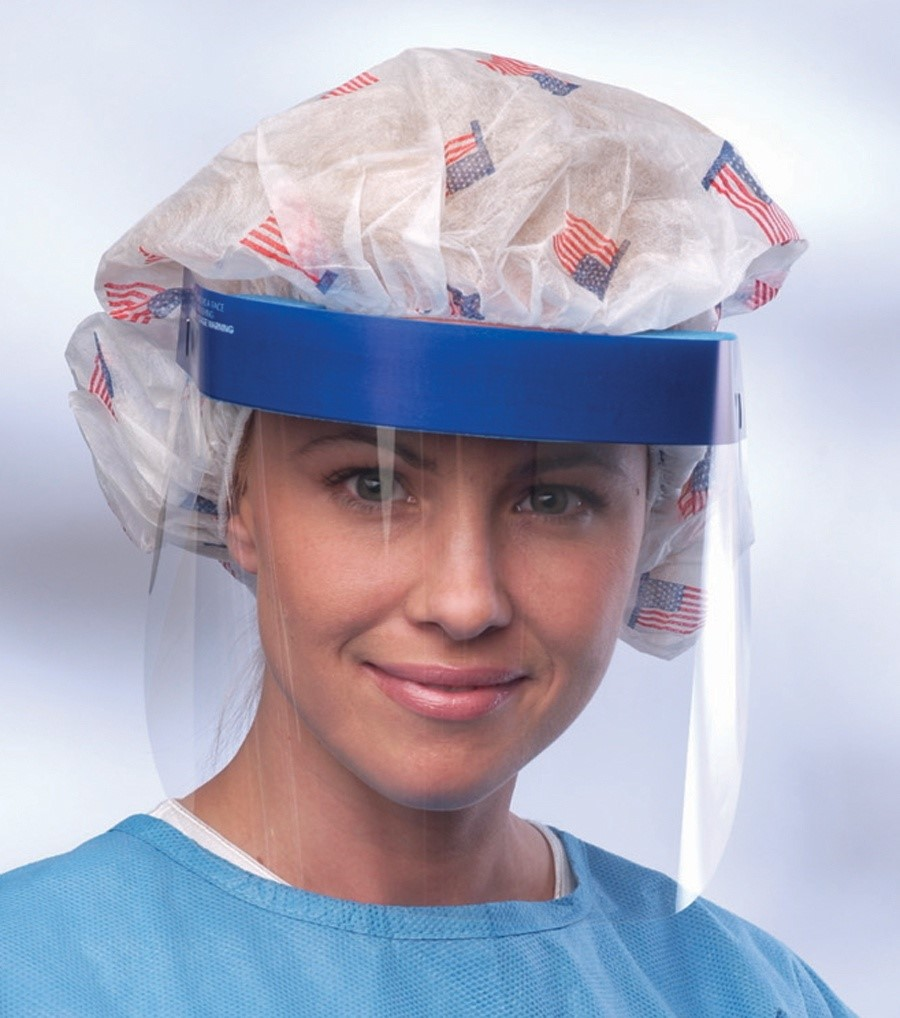face_no_mask: (216, 340, 647, 813)
